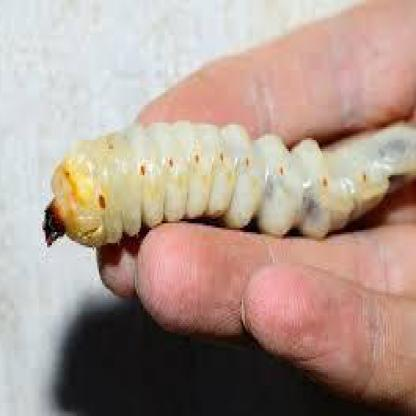root grubs: (40, 119, 409, 252)
